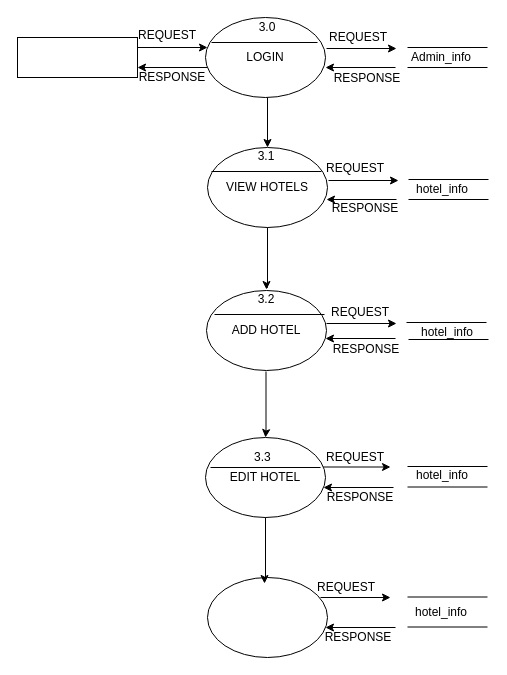
Some shapes in this 507 by 675 pixel diagram are drawn without their labels. The centre of each missing label's shape, as x and y in pixels:
ADMIN: the point at 77,57
DELETE HOTELS: the point at 267,617
